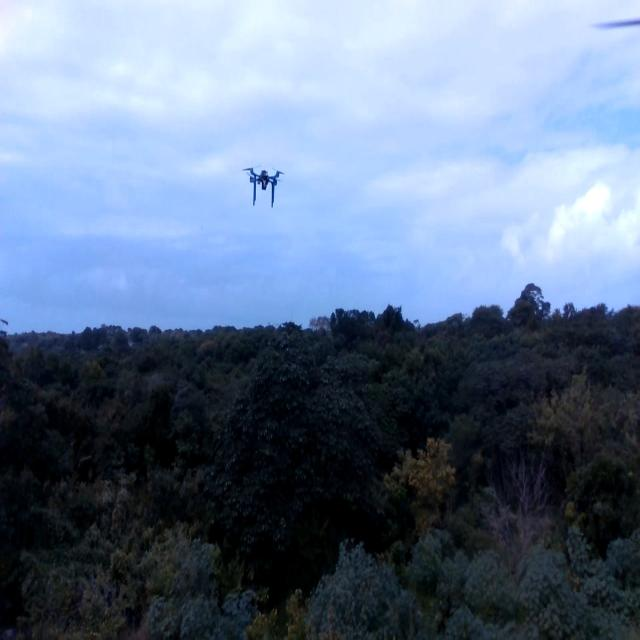-uav-: (240, 158, 289, 212)
